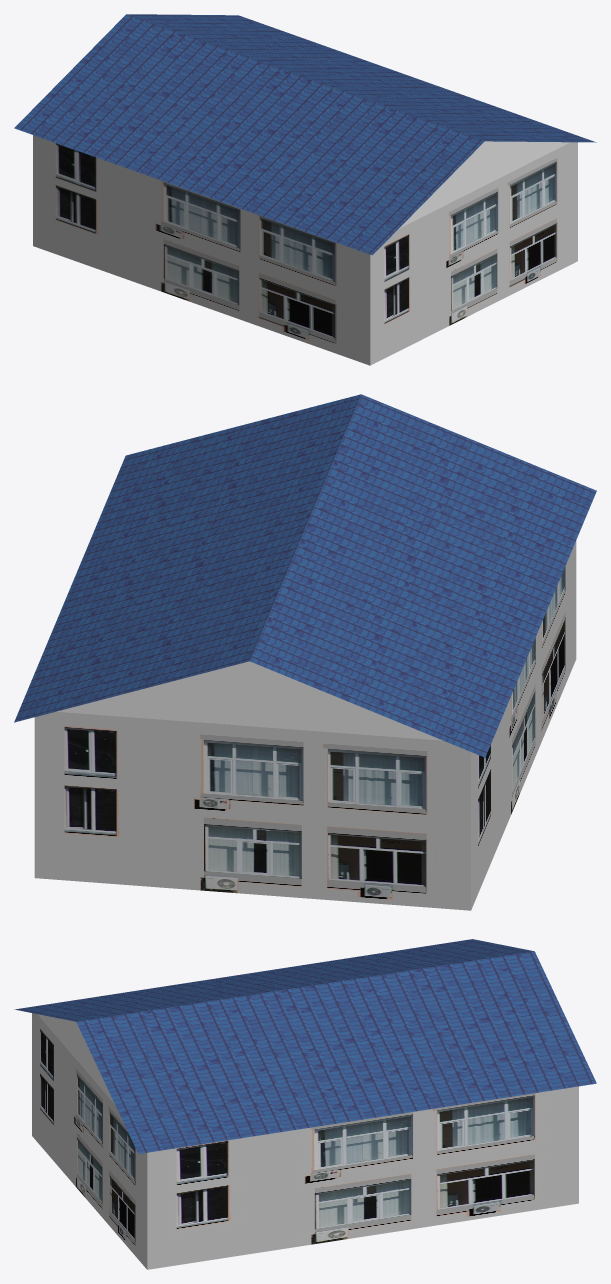
The picture shows the model from 3 angles, top to bottom: view 1: azimuth 30°, elevation 25°; view 2: azimuth 150°, elevation 25°; view 3: azimuth 270°, elevation 25°; orthographic projection. The views are drawn at different scales.
Visible parts, largest first — view 1: CityEngineMaterial_10_m, CityEngineMaterial_9_m, CityEngineMaterial_3_m; view 2: CityEngineMaterial_10_m, CityEngineMaterial_9_m, CityEngineMaterial_3_m; view 3: CityEngineMaterial_10_m, CityEngineMaterial_9_m, CityEngineMaterial_3_m.
Boxes of the visible parts, <box> form: CityEngineMaterial_10_m: <box>14,14,596,255</box>; CityEngineMaterial_9_m: <box>33,135,577,365</box>; CityEngineMaterial_3_m: <box>399,141,570,228</box>; CityEngineMaterial_10_m: <box>14,394,596,757</box>; CityEngineMaterial_9_m: <box>34,541,576,910</box>; CityEngineMaterial_3_m: <box>56,661,442,740</box>; CityEngineMaterial_10_m: <box>14,939,596,1153</box>; CityEngineMaterial_9_m: <box>32,1013,578,1269</box>; CityEngineMaterial_3_m: <box>37,1014,114,1104</box>.
Bounding box in the file's own units: 35.42 × 14.08 × 40.58.
